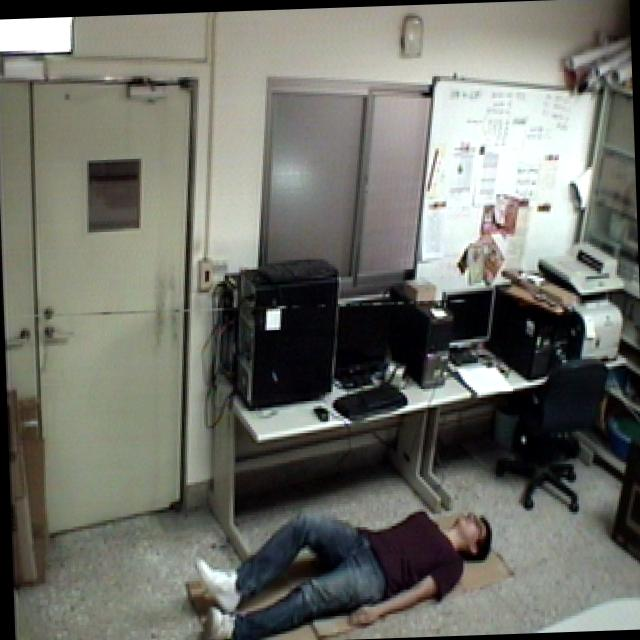lie: (186, 490, 499, 640)
